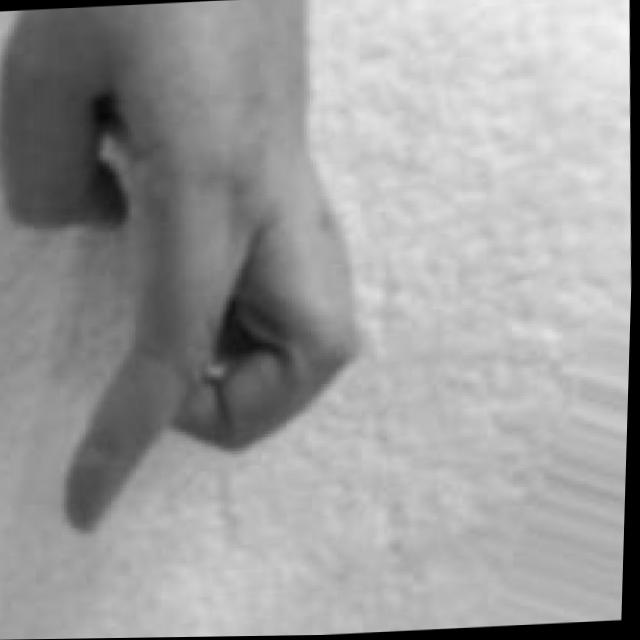P: (0, 0, 378, 553)
